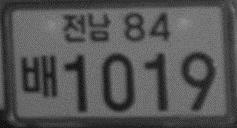0: (100, 52, 135, 112)
1: (143, 51, 169, 113), (63, 52, 88, 114)
4: (148, 11, 171, 41)
8: (123, 11, 146, 42)
9: (180, 50, 217, 112)
배: (19, 54, 59, 98)
전남_H: (60, 11, 112, 43)
